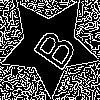B: (24, 20, 79, 73)
